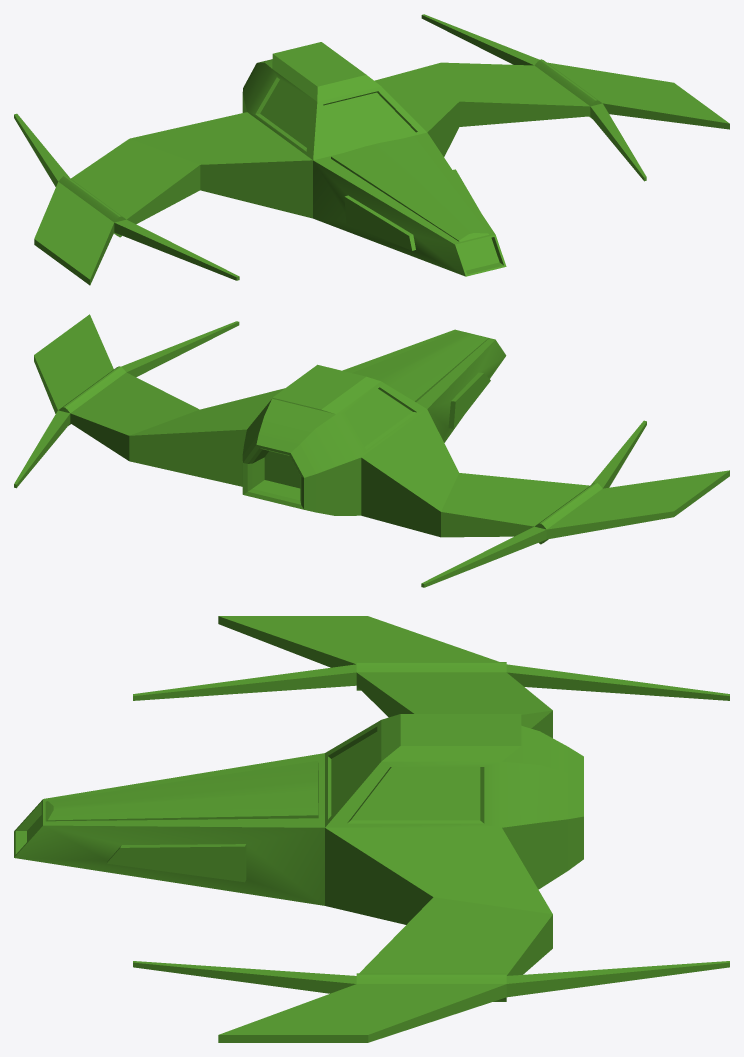
File: PlayerShipTexture.fbx
3 views of the same model, one above another, from view 1: azimuth 30°, elevation 25°; view 2: azimuth 150°, elevation 25°; view 3: azimuth 270°, elevation 25° (orthographic). The views are drawn at different scales.
Visible parts, largest first — view 1: PlayerShip; view 2: PlayerShip; view 3: PlayerShip.
Boxes of the visible parts, box(x1,y1,x2,y2) form: PlayerShip: box(14, 14, 729, 285); PlayerShip: box(14, 314, 729, 587); PlayerShip: box(14, 616, 729, 1042).
Bounding box in the file's own units: 101 × 15.56 × 72.84.
